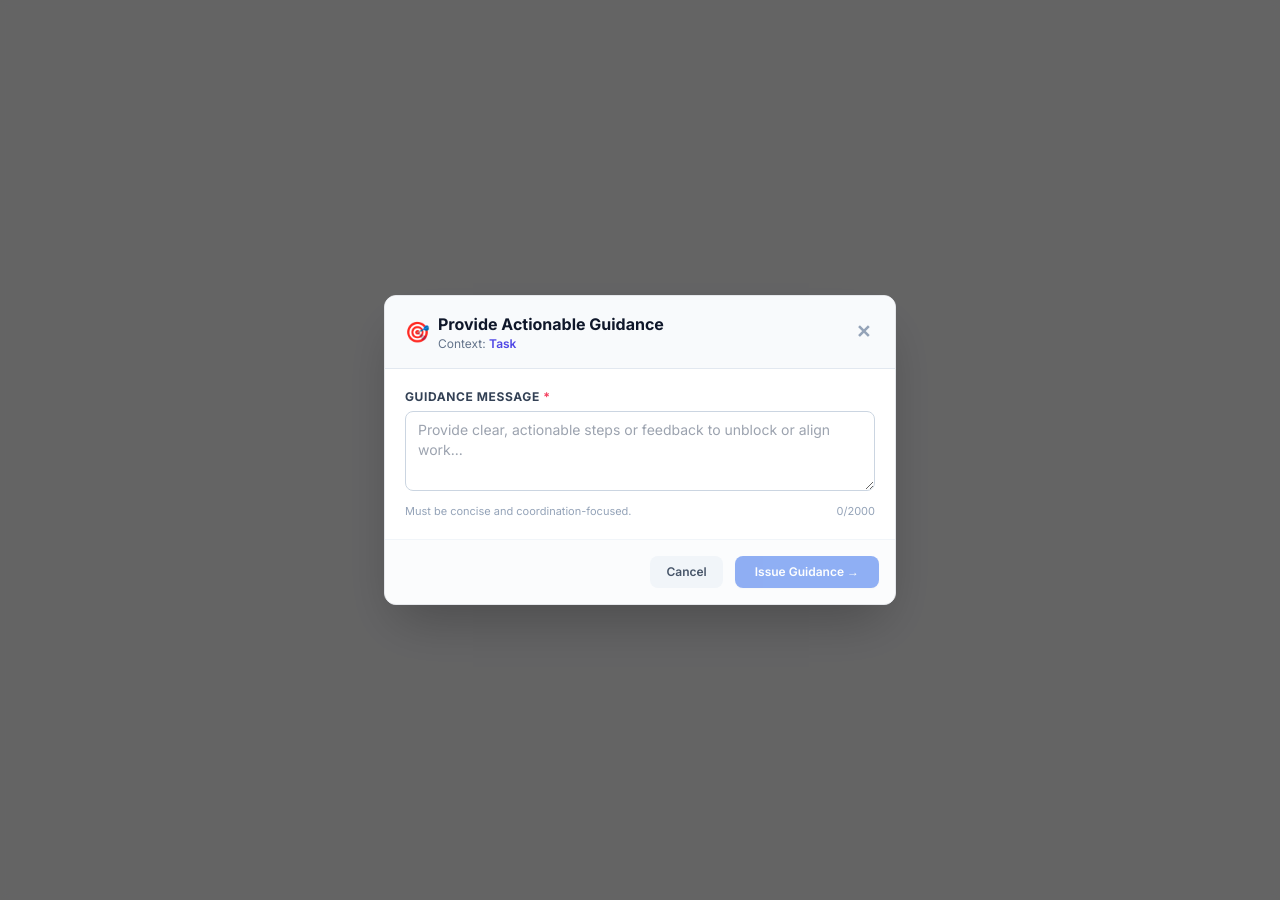
Scenario: ProvideGuidanceModal Component › 5. Handles API error during submission
Replace the text in the text box with test id "guidance-message-input" with "Valid guidance message text" at (640, 451), box [405,411,875,491]
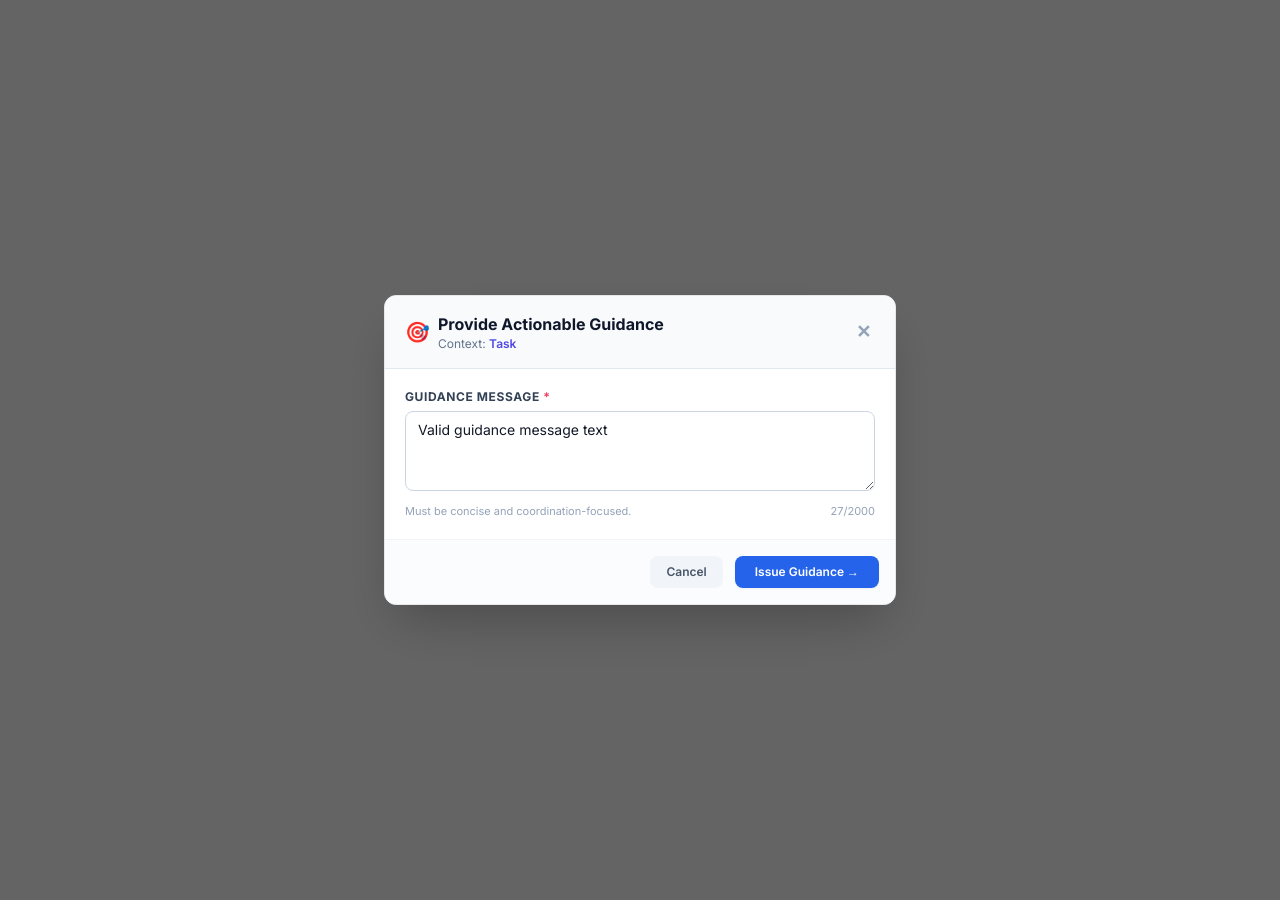
Click the button with test id "submit-guidance-btn" at (807, 572), box [735,556,879,588]
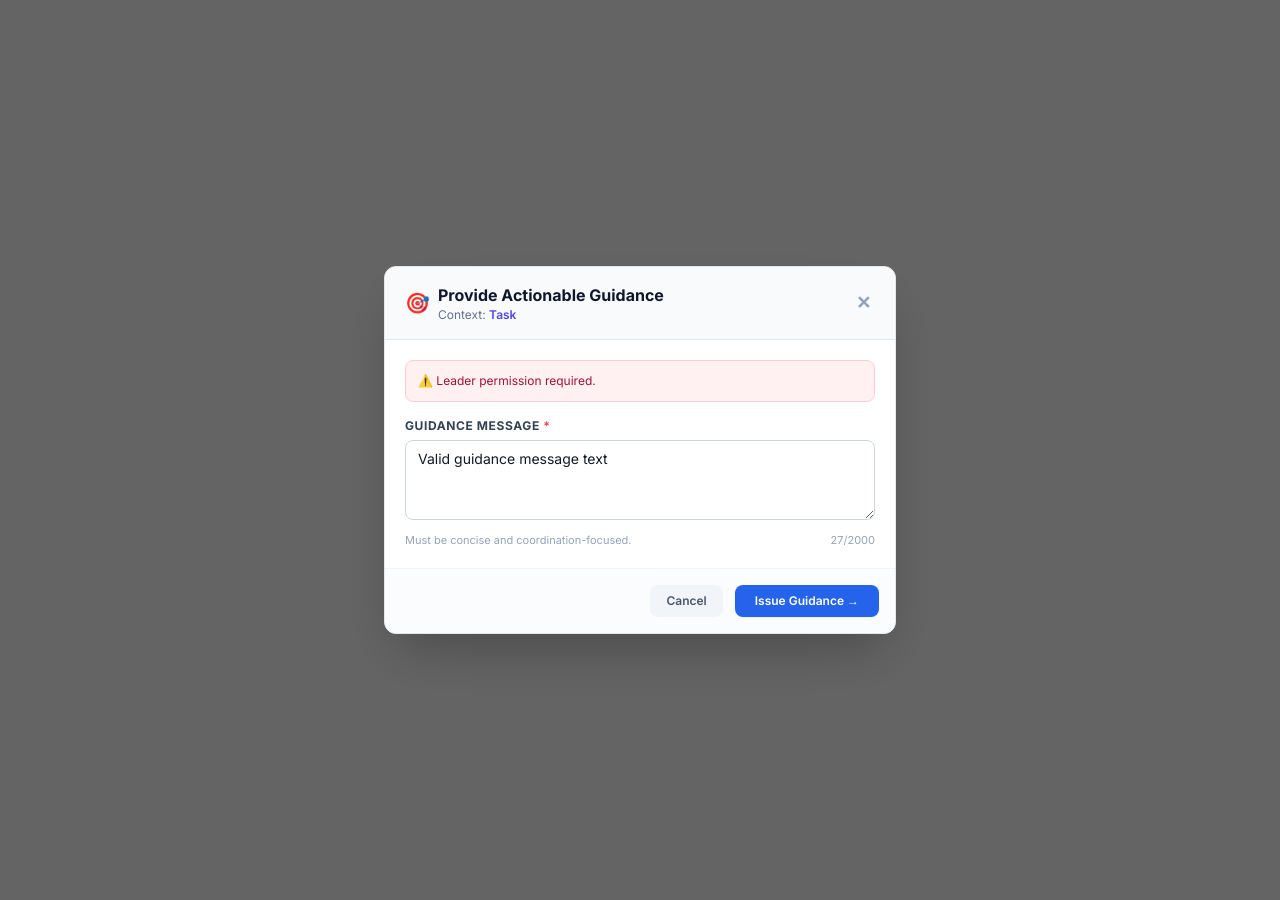
Result: the element with test id "guidance-error" is shown at [405,360,875,402]
Result: the text "⚠️ Leader permission required." is shown at [418,373,596,388]
